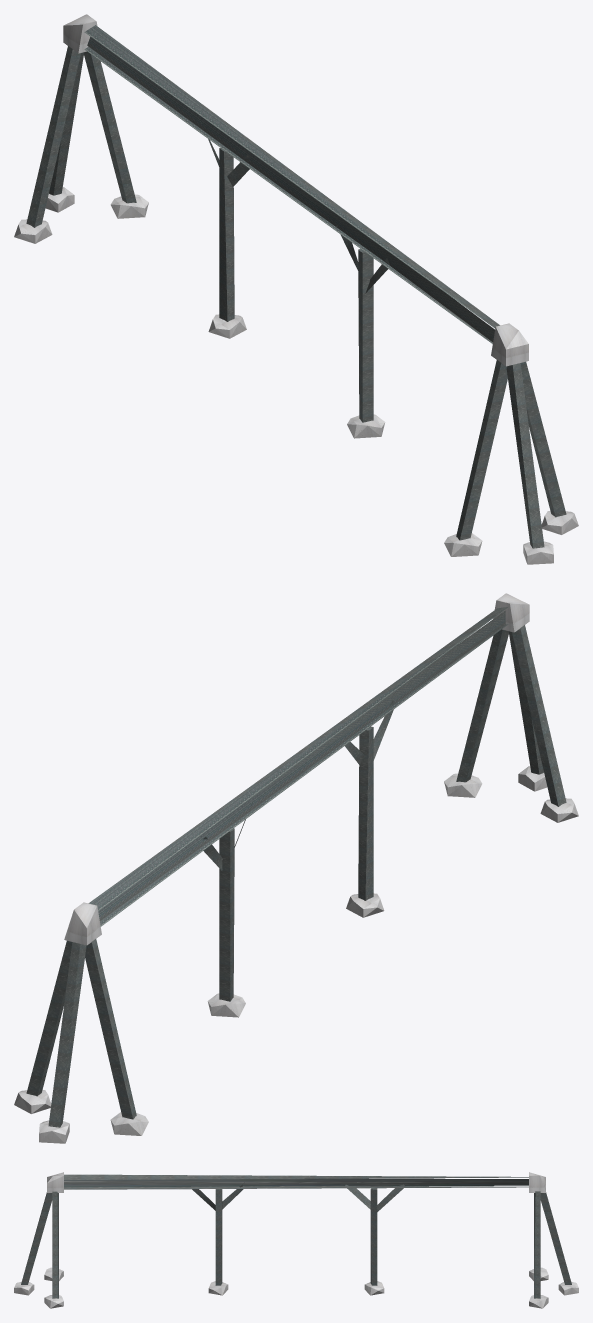
Rendered from crane_base_lod1.FBX.
The picture shows the model from 3 angles, top to bottom: view 1: azimuth 30°, elevation 25°; view 2: azimuth 150°, elevation 25°; view 3: azimuth 270°, elevation 25°; orthographic projection. The views are drawn at different scales.
Parts seen in each view (by area): view 1: Box515; view 2: Box515; view 3: Box515.
Part boxes in pixels (x1=…): Box515: x1=14, y1=14, x2=578, y2=564; Box515: x1=14, y1=593, x2=578, y2=1143; Box515: x1=14, y1=1172, x2=578, y2=1308.
Size of the model in its own units: 1017 by 1579 by 6908.
2 materials, 2 textured.
